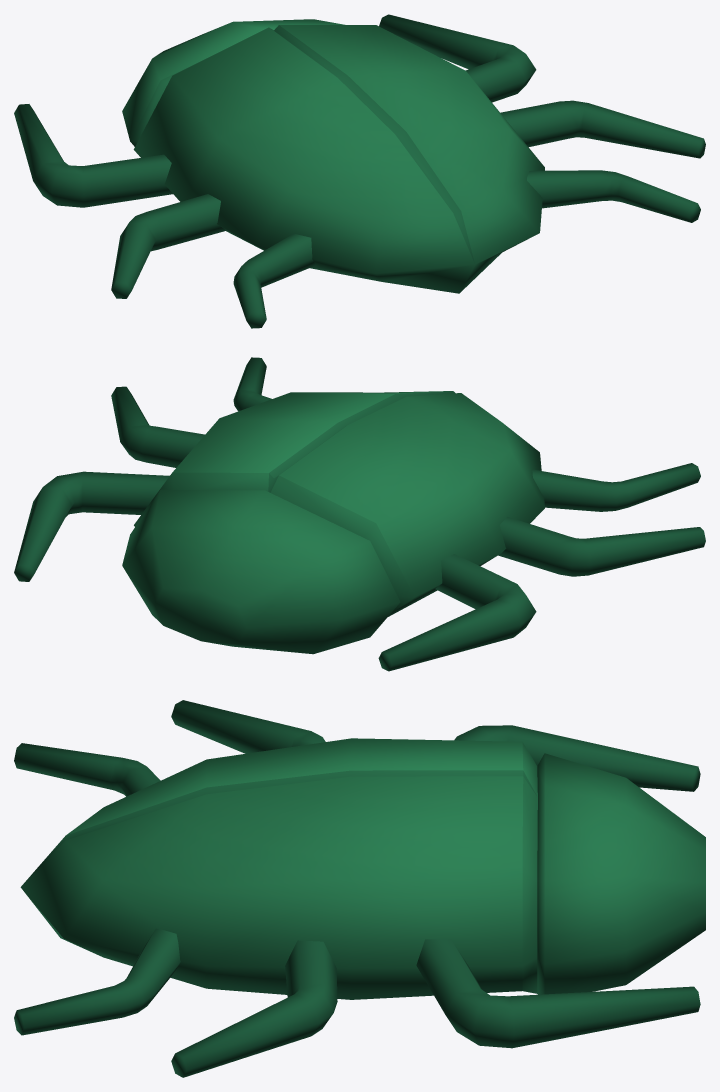
File: Beetle.fbx
The picture shows the model from 3 angles, top to bottom: view 1: azimuth 30°, elevation 25°; view 2: azimuth 150°, elevation 25°; view 3: azimuth 270°, elevation 25°; orthographic projection. The views are drawn at different scales.
Parts seen in each view (by area): view 1: Beetle; view 2: Beetle; view 3: Beetle.
Boxes of the visible parts, x1,y1,x2,y2 form: Beetle: [14, 14, 705, 328]; Beetle: [14, 357, 705, 671]; Beetle: [14, 700, 705, 1077].
Size of the model in its own units: 9.91 by 2.39 by 8.
